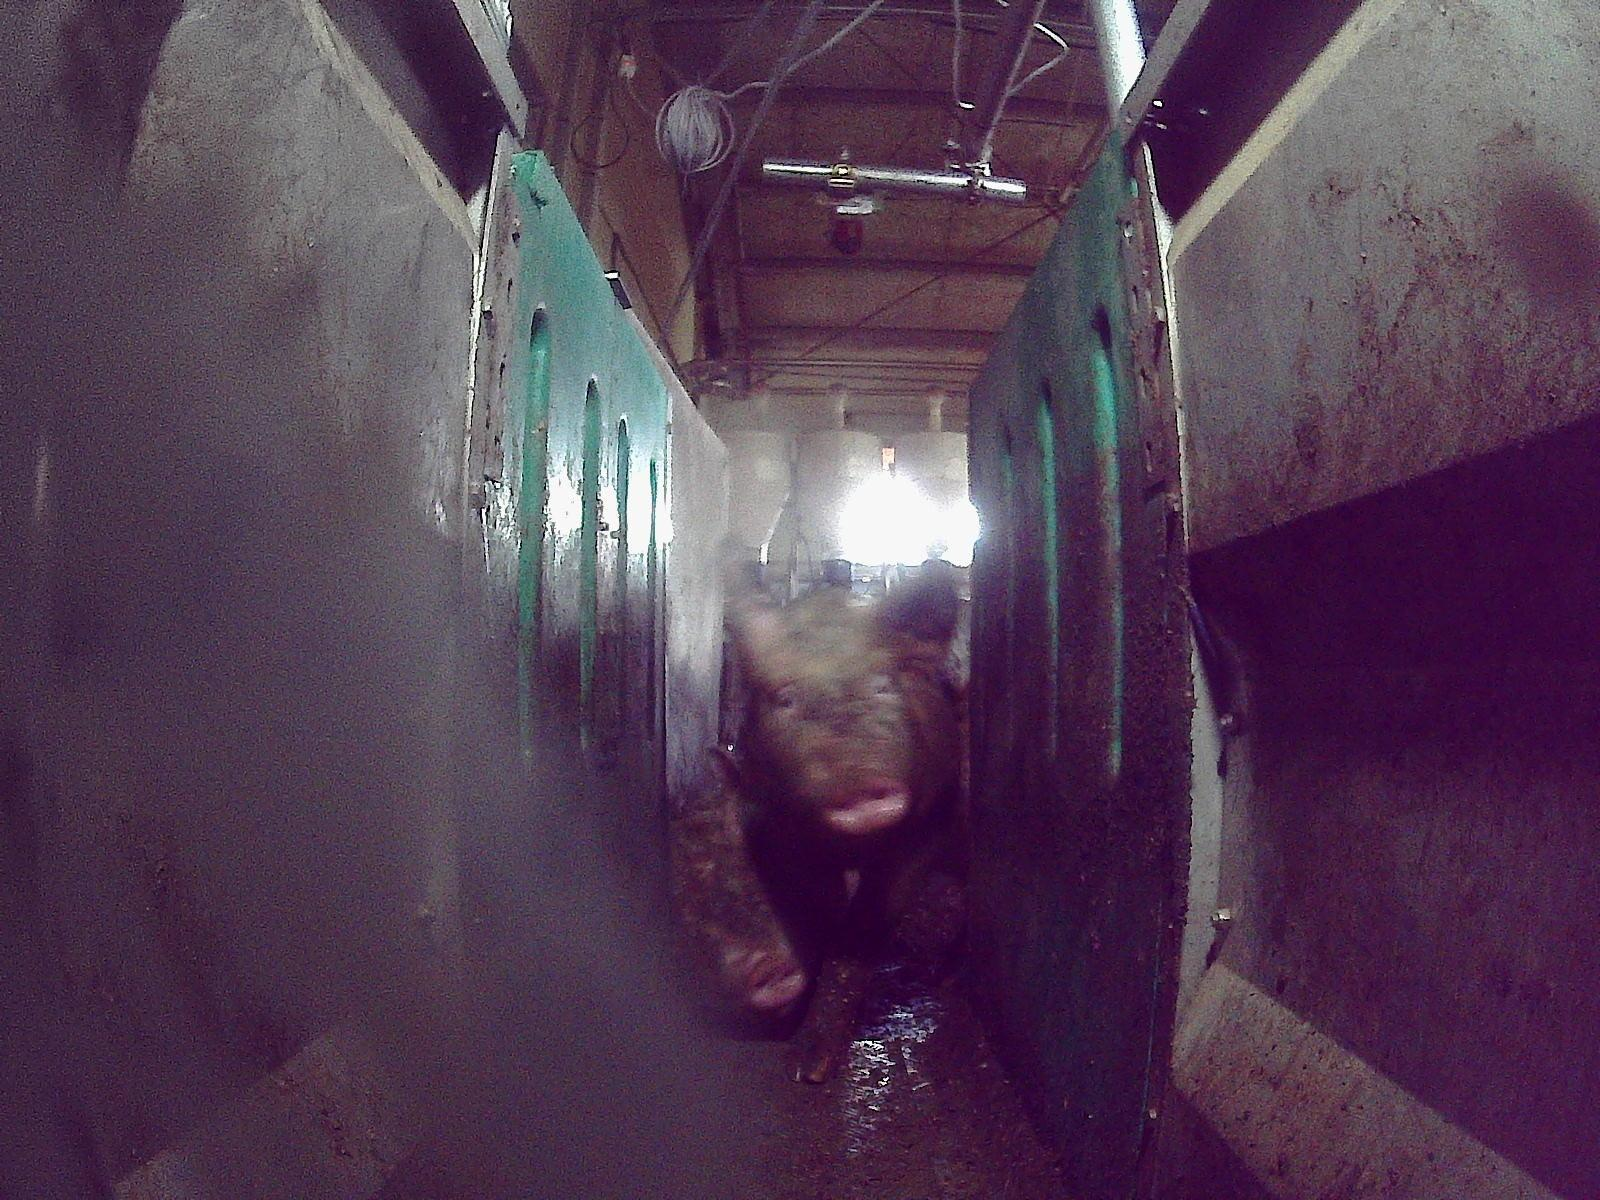Face: (752, 629, 917, 830)
